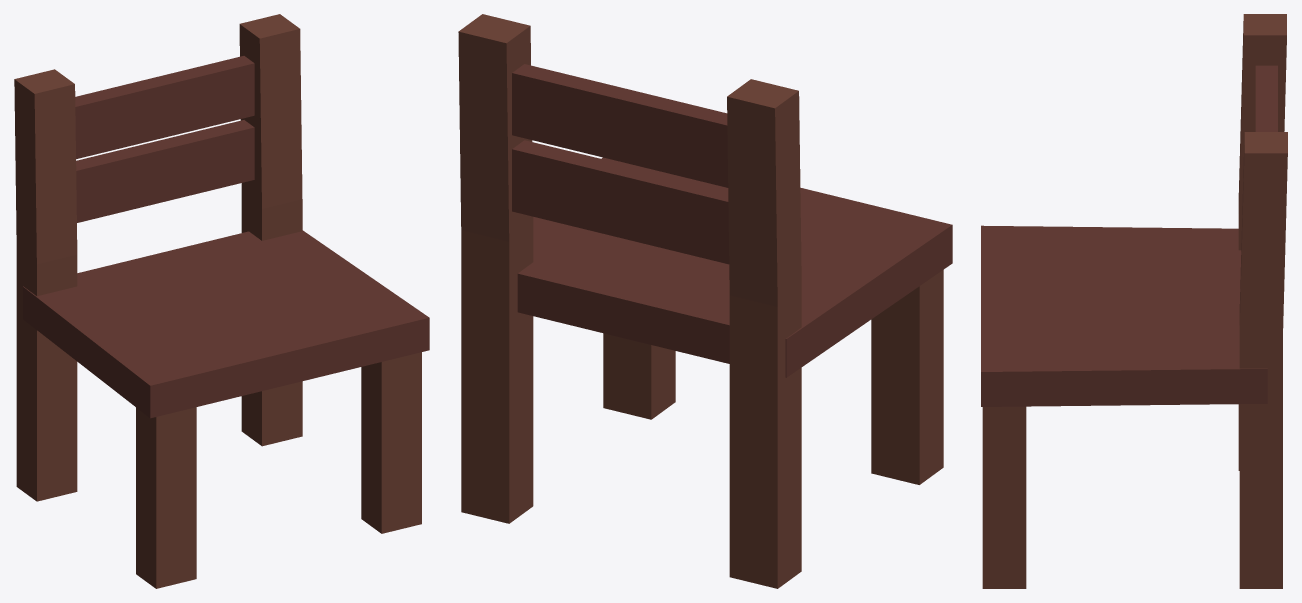
Rendered from chair.fbx.
The picture shows the model from 3 angles, left to right: view 1: azimuth 30°, elevation 25°; view 2: azimuth 150°, elevation 25°; view 3: azimuth 270°, elevation 25°; orthographic projection. The views are drawn at different scales.
Parts seen in each view (by area): view 1: chair; view 2: chair; view 3: chair.
Part boxes in pixels (left/top/right/bottom): chair: left=14, top=14, right=429, bottom=588; chair: left=458, top=14, right=952, bottom=588; chair: left=981, top=14, right=1287, bottom=588.
Size of the model in its own units: 33.62 by 46.69 by 29.8.
